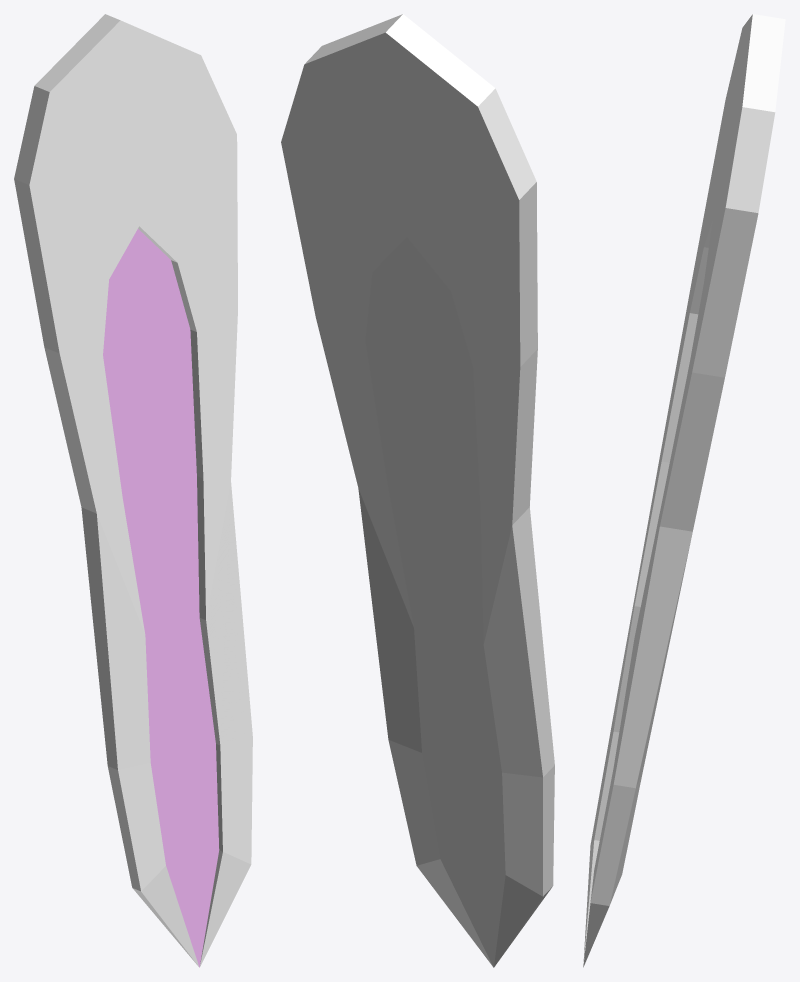
Rendered from chara_rabbit.fbx.
3 views of the same model, side by side, from view 1: azimuth 30°, elevation 25°; view 2: azimuth 150°, elevation 25°; view 3: azimuth 270°, elevation 25° (orthographic). The views are drawn at different scales.
Visible parts, largest first — view 1: chara_rabbit; view 2: chara_rabbit; view 3: chara_rabbit.
Part boxes in pixels (left/top/right/bottom): chara_rabbit: left=14, top=14, right=252, bottom=967; chara_rabbit: left=281, top=14, right=554, bottom=967; chara_rabbit: left=583, top=14, right=785, bottom=967.
Size of the model in its own units: 38.46 by 157 by 30.27.
